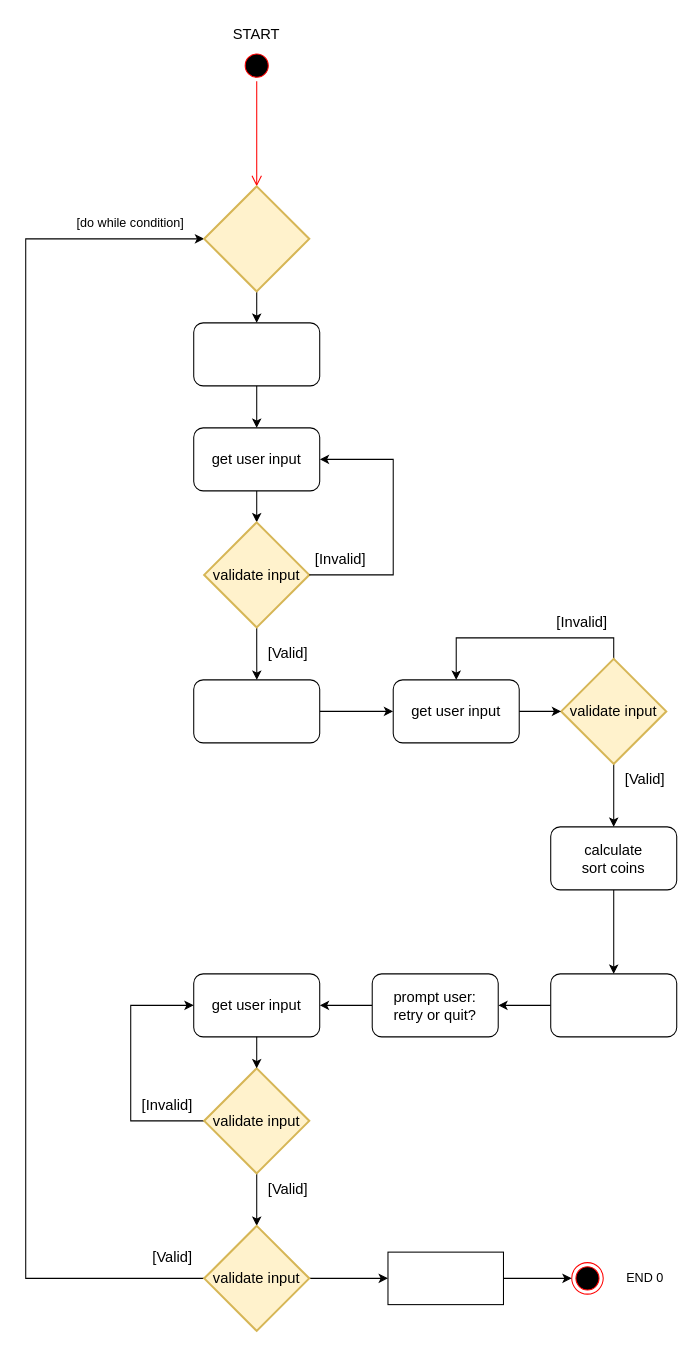
This 695x1349 diagram has some shape labels left out. Here are the shapes that lost their labels. From the top down, the centre of each, then its label:
At point 256,354: "prompt user: enter currency".
At point 256,711: "prompt user: change value".
At point 613,1005: "display sorted coins".
At point 445,1278: "press enter to quit".
